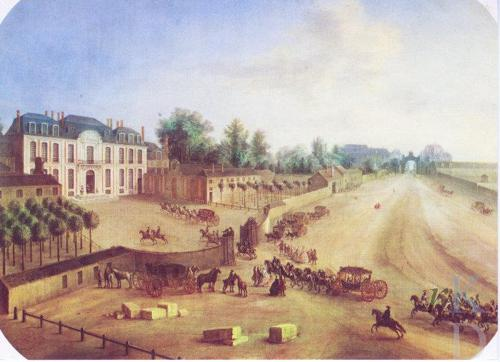horse: (262, 255, 336, 294), (365, 308, 408, 337), (435, 305, 461, 333), (196, 267, 220, 294), (407, 296, 432, 319), (110, 268, 133, 290), (148, 225, 168, 244), (463, 307, 483, 326), (138, 228, 155, 246), (236, 276, 250, 297), (480, 307, 498, 323)
tree: (156, 109, 215, 165), (1, 199, 84, 230), (291, 134, 341, 170), (216, 118, 251, 165), (251, 130, 291, 169), (11, 224, 33, 271), (30, 221, 51, 266), (49, 218, 68, 262), (68, 216, 84, 257), (84, 211, 99, 253)
